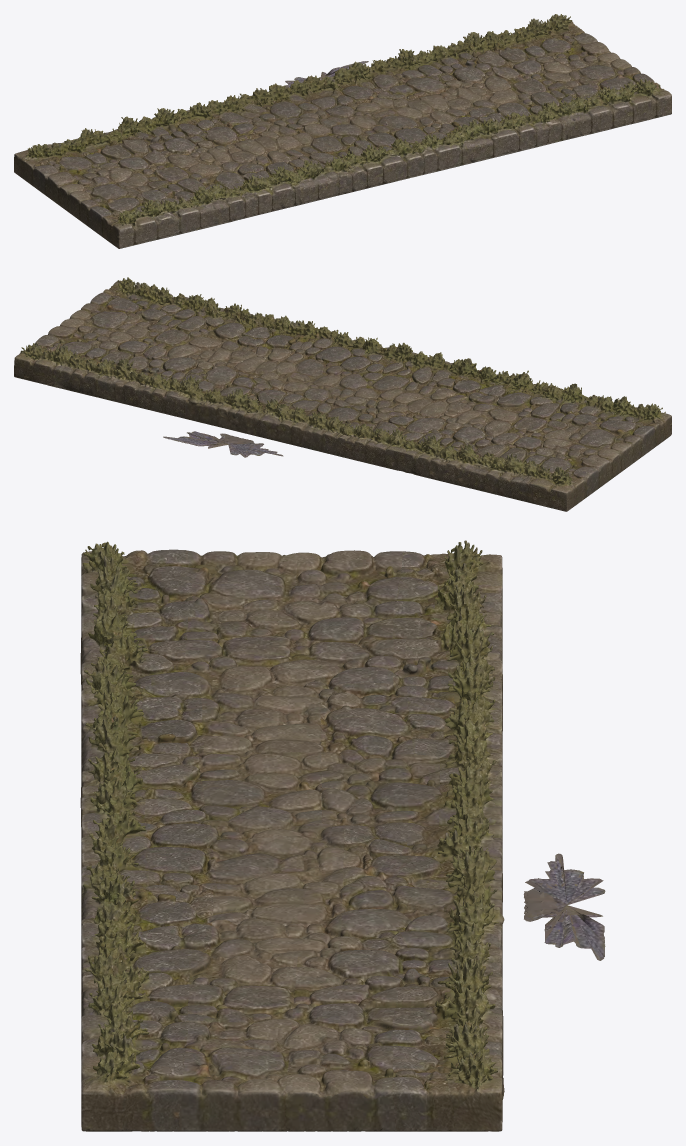
The model's file is Meshy_AI_road_village_0823031928_image-to-3d-texture.glb.
3 views of the same model, one above another, from view 1: azimuth 30°, elevation 25°; view 2: azimuth 150°, elevation 25°; view 3: azimuth 270°, elevation 25° (orthographic). The views are drawn at different scales.
Parts seen in each view (by area): view 1: mesh_node; view 2: mesh_node; view 3: mesh_node.
Boxes of the visible parts, x1,y1,x2,y2 form: mesh_node: [14, 14, 671, 248]; mesh_node: [14, 277, 671, 511]; mesh_node: [80, 540, 605, 1131].
Size of the model in its own units: 1.9 by 0.1174 by 0.7813.
1 material, 1 textured.
